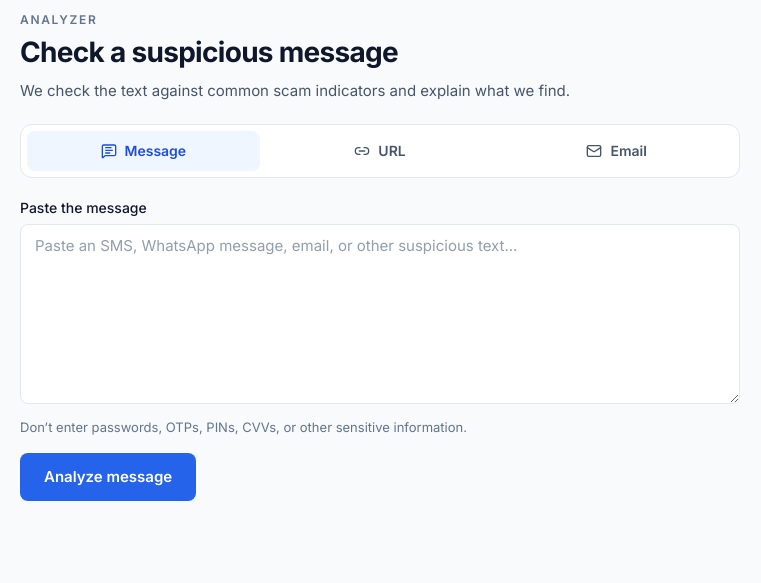
analyzer page › server error message is displayed (Phase 7 shape)
Type "x" into the text box at (380, 314), box [20,224,740,404]
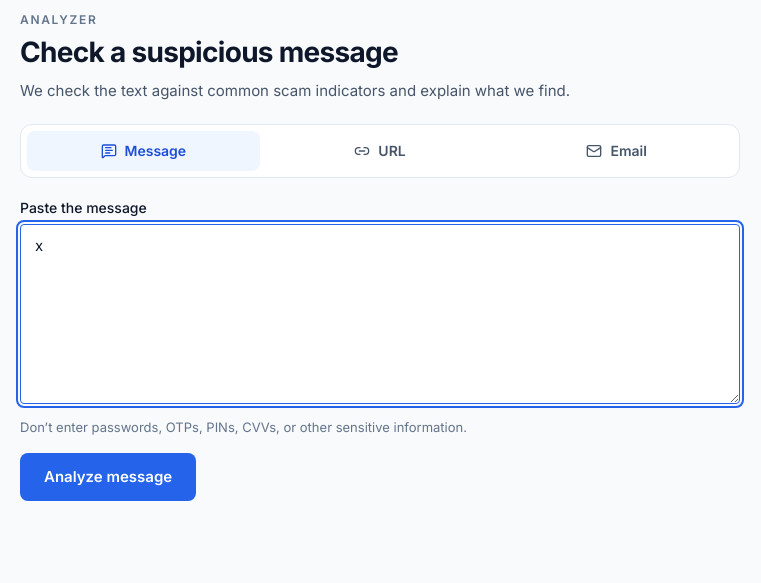
Click the button "Analyze message" at (108, 477), box [20,453,196,501]
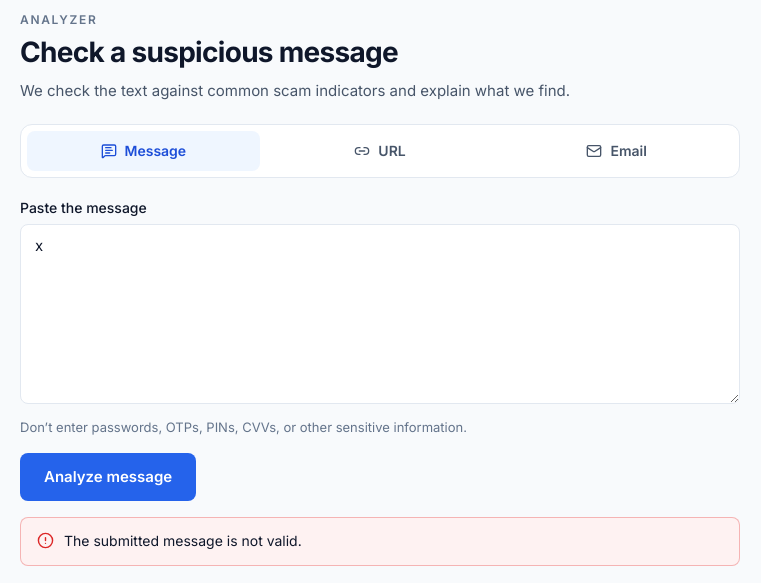
Now the text "The submitted message is not valid." is shown, box [64,530,302,553]
